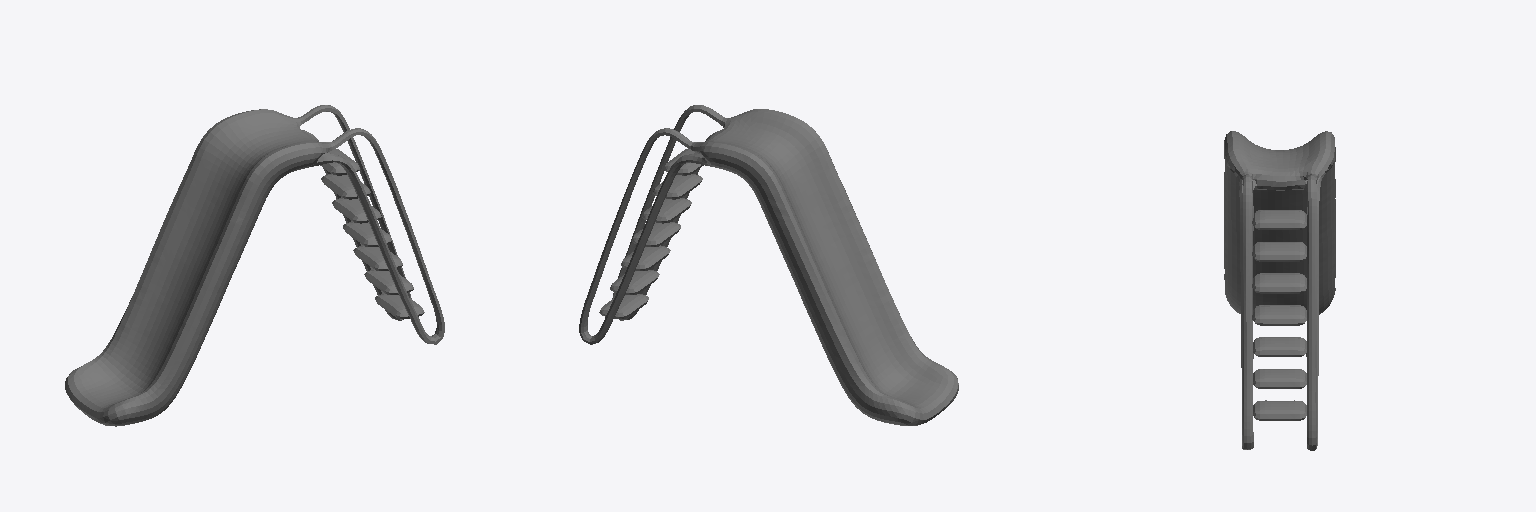
File: slide.OBJ
The picture shows the model from 3 angles: view 1: azimuth 30°, elevation 25°; view 2: azimuth 150°, elevation 25°; view 3: azimuth 270°, elevation 25°; orthographic projection.
Parts seen in each view (by area): view 1: ZBrush_defualt_group; view 2: ZBrush_defualt_group; view 3: ZBrush_defualt_group.
Part boxes in pixels (bbox=[...]): ZBrush_defualt_group: bbox=[65, 105, 444, 426]; ZBrush_defualt_group: bbox=[579, 105, 958, 425]; ZBrush_defualt_group: bbox=[1224, 131, 1335, 450].
Bounding box in the file's own units: 176 × 122 × 49.42.